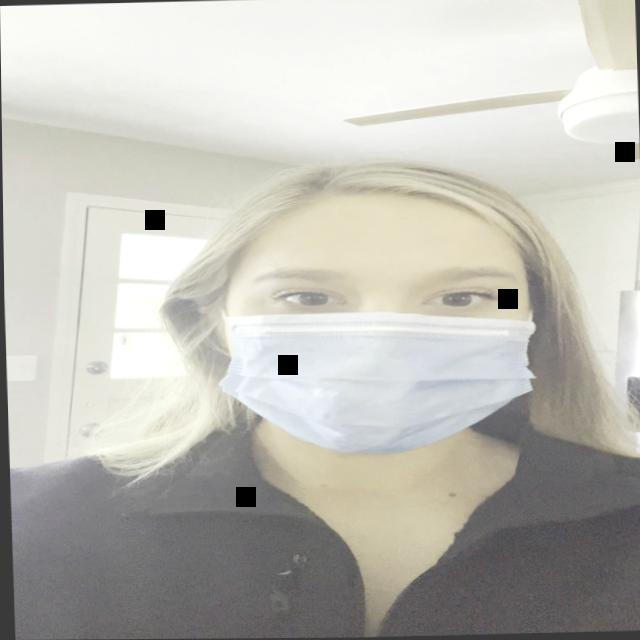Mask: (181, 176, 573, 472)
